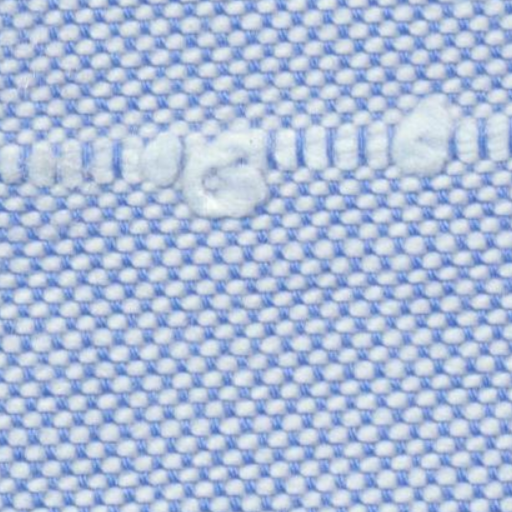DaiSha: (8, 98, 504, 224)
